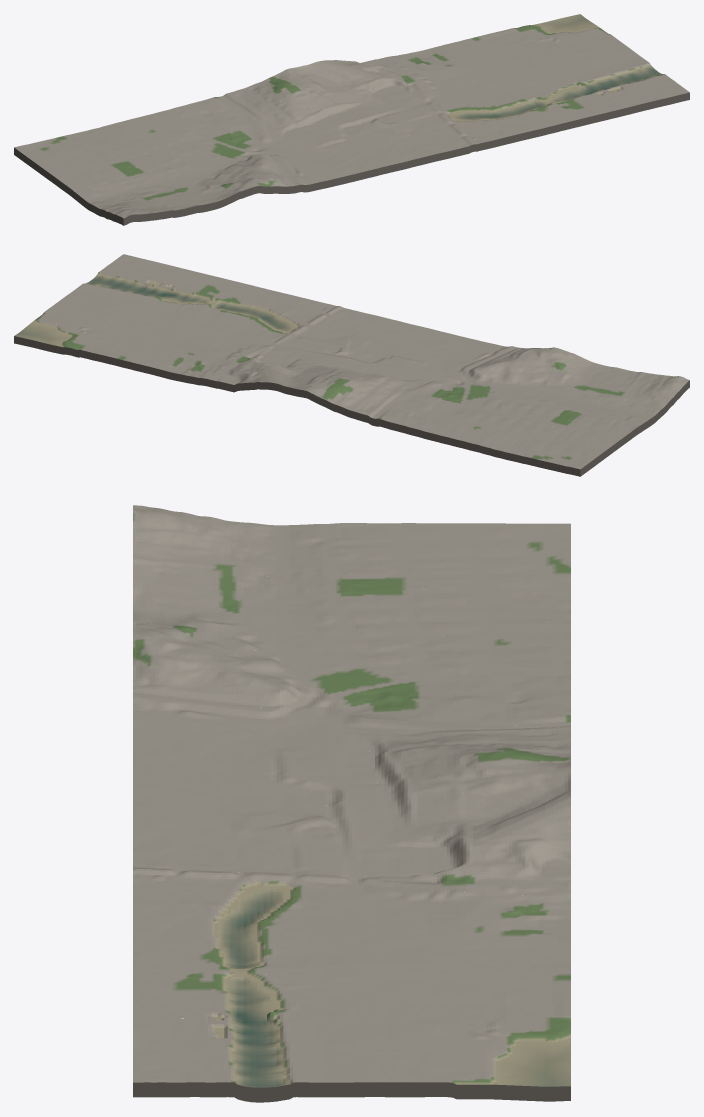
File: terrain_3_4.glb
3 views of the same model, one above another, from view 1: azimuth 30°, elevation 25°; view 2: azimuth 150°, elevation 25°; view 3: azimuth 270°, elevation 25° (orthographic). The views are drawn at different scales.
Parts seen in each view (by area): view 1: terrain_3_4; view 2: terrain_3_4; view 3: terrain_3_4.
Part boxes in pixels (bbox=[...]): terrain_3_4: bbox=[14, 14, 689, 225]; terrain_3_4: bbox=[14, 254, 689, 476]; terrain_3_4: bbox=[133, 505, 570, 1102].
Bounding box in the file's own units: 3200 × 134 × 1072.
